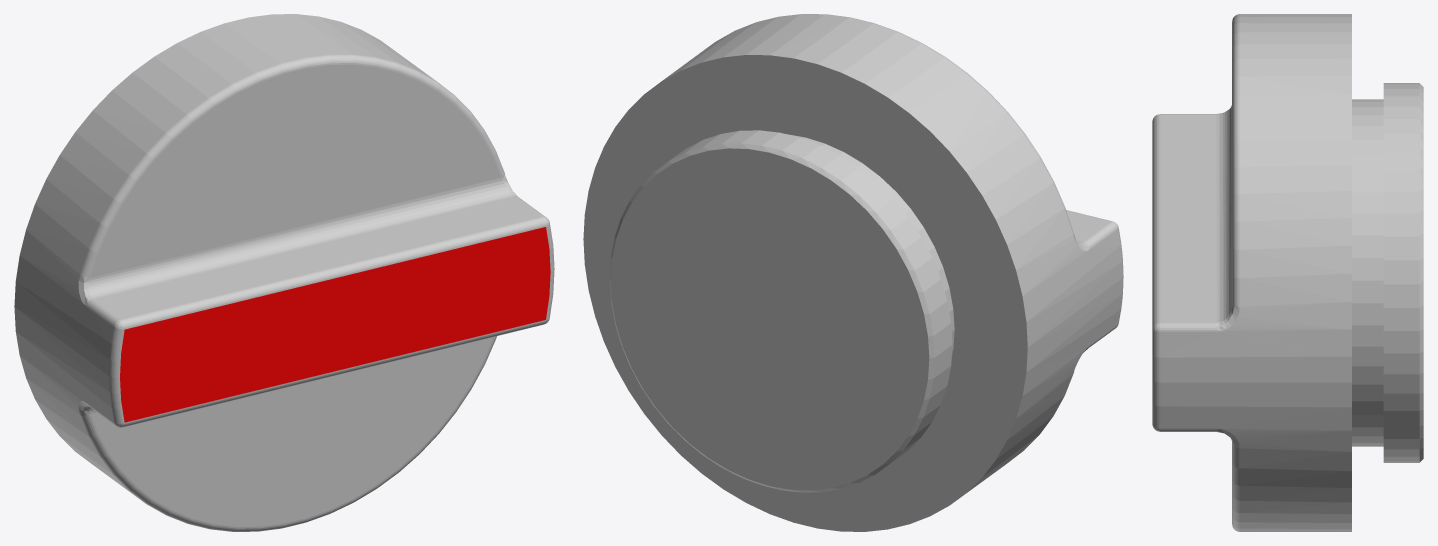
File: 184_0705_A___Tapulho_de_aco_1_1_2_pol_stp_21.obj
3 renders of one model, left to right at view 1: azimuth 30°, elevation 25°; view 2: azimuth 150°, elevation 25°; view 3: azimuth 270°, elevation 25°, orthographic.
Parts seen in each view (by area): view 1: Object1; view 2: Object1; view 3: Object1.
Boxes of the visible parts, x1,y1,x2,y2 form: Object1: (14, 14, 554, 531); Object1: (583, 14, 1123, 531); Object1: (1152, 14, 1423, 531).
Size of the model in its own units: 65 by 64.9 by 34.
